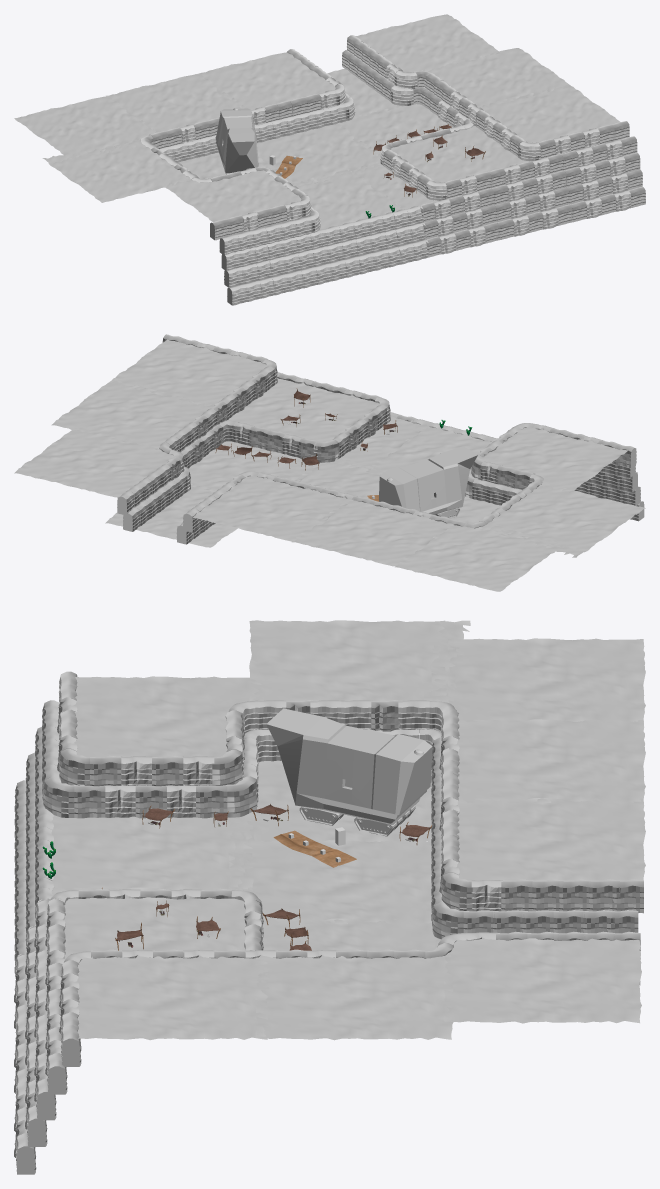
Rendered from Shop_Ruins.fbx.
The picture shows the model from 3 angles, top to bottom: view 1: azimuth 30°, elevation 25°; view 2: azimuth 150°, elevation 25°; view 3: azimuth 270°, elevation 25°; orthographic projection. The views are drawn at different scales.
Visible parts, largest first — view 1: level1_wall228, Plane089, Plane080, JawaShip, Tend001; view 2: Plane089, level1_wall228, Plane080, JawaShip, Tend001; view 3: Plane089, level1_wall228, Plane080, JawaShip, Tend001, Carpet.
Part boxes in pixels (x1=…): level1_wall228: x1=140, y1=35, x2=645, y2=305; Plane089: x1=14, y1=14, x2=620, y2=222; Plane080: x1=178, y1=68, x2=453, y2=229; JawaShip: x1=215, y1=108, x2=258, y2=174; Tend001: x1=373, y1=124, x2=485, y2=197; Plane089: x1=14, y1=339, x2=645, y2=591; level1_wall228: x1=117, y1=334, x2=644, y2=544; Plane080: x1=105, y1=416, x2=500, y2=547; JawaShip: x1=379, y1=446, x2=477, y2=518; Tend001: x1=215, y1=388, x2=397, y2=470; Plane089: x1=64, y1=620, x2=645, y2=1040; level1_wall228: x1=14, y1=671, x2=643, y2=1174; Plane080: x1=50, y1=760, x2=440, y2=951; JawaShip: x1=266, y1=708, x2=432, y2=836; Tend001: x1=102, y1=804, x2=431, y2=950; Carpet: x1=273, y1=830, x2=356, y2=867.
Bounding box in the file's own units: 5048 × 919 × 3178.
